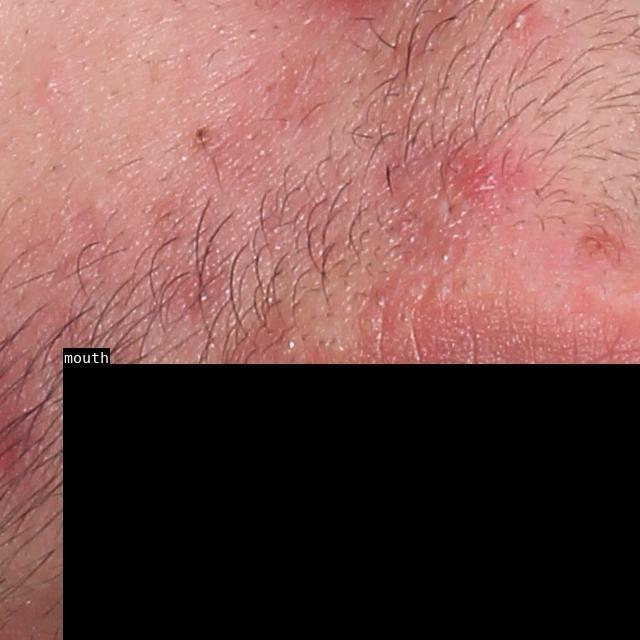pustule: (504, 4, 532, 35)
